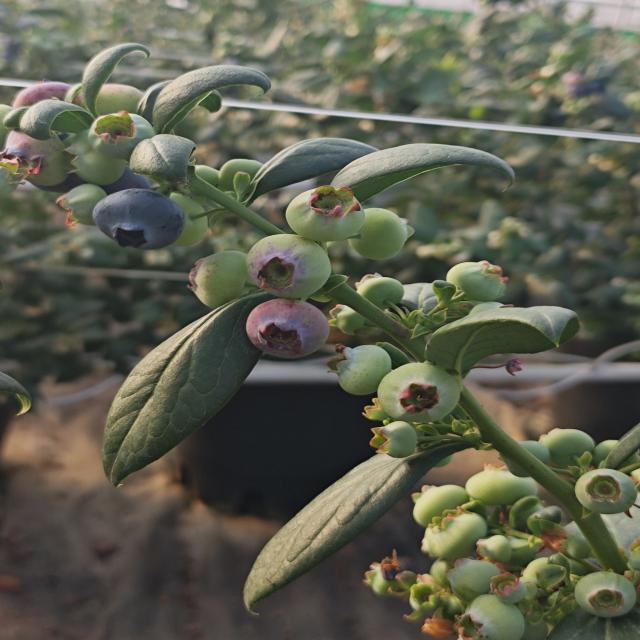ripe: (90, 186, 188, 252), (104, 159, 168, 201)
